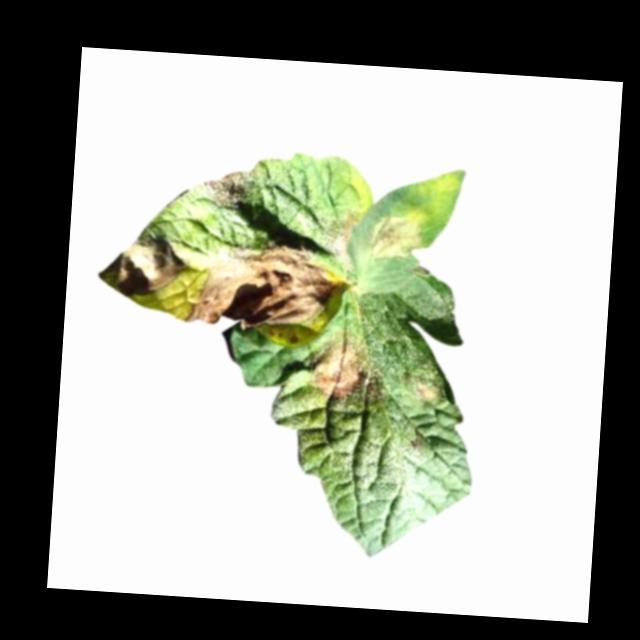Late_blight: (184, 240, 348, 332), (98, 229, 188, 301), (308, 335, 383, 410), (366, 211, 422, 265), (202, 163, 259, 209), (324, 205, 361, 273), (412, 375, 440, 405)
